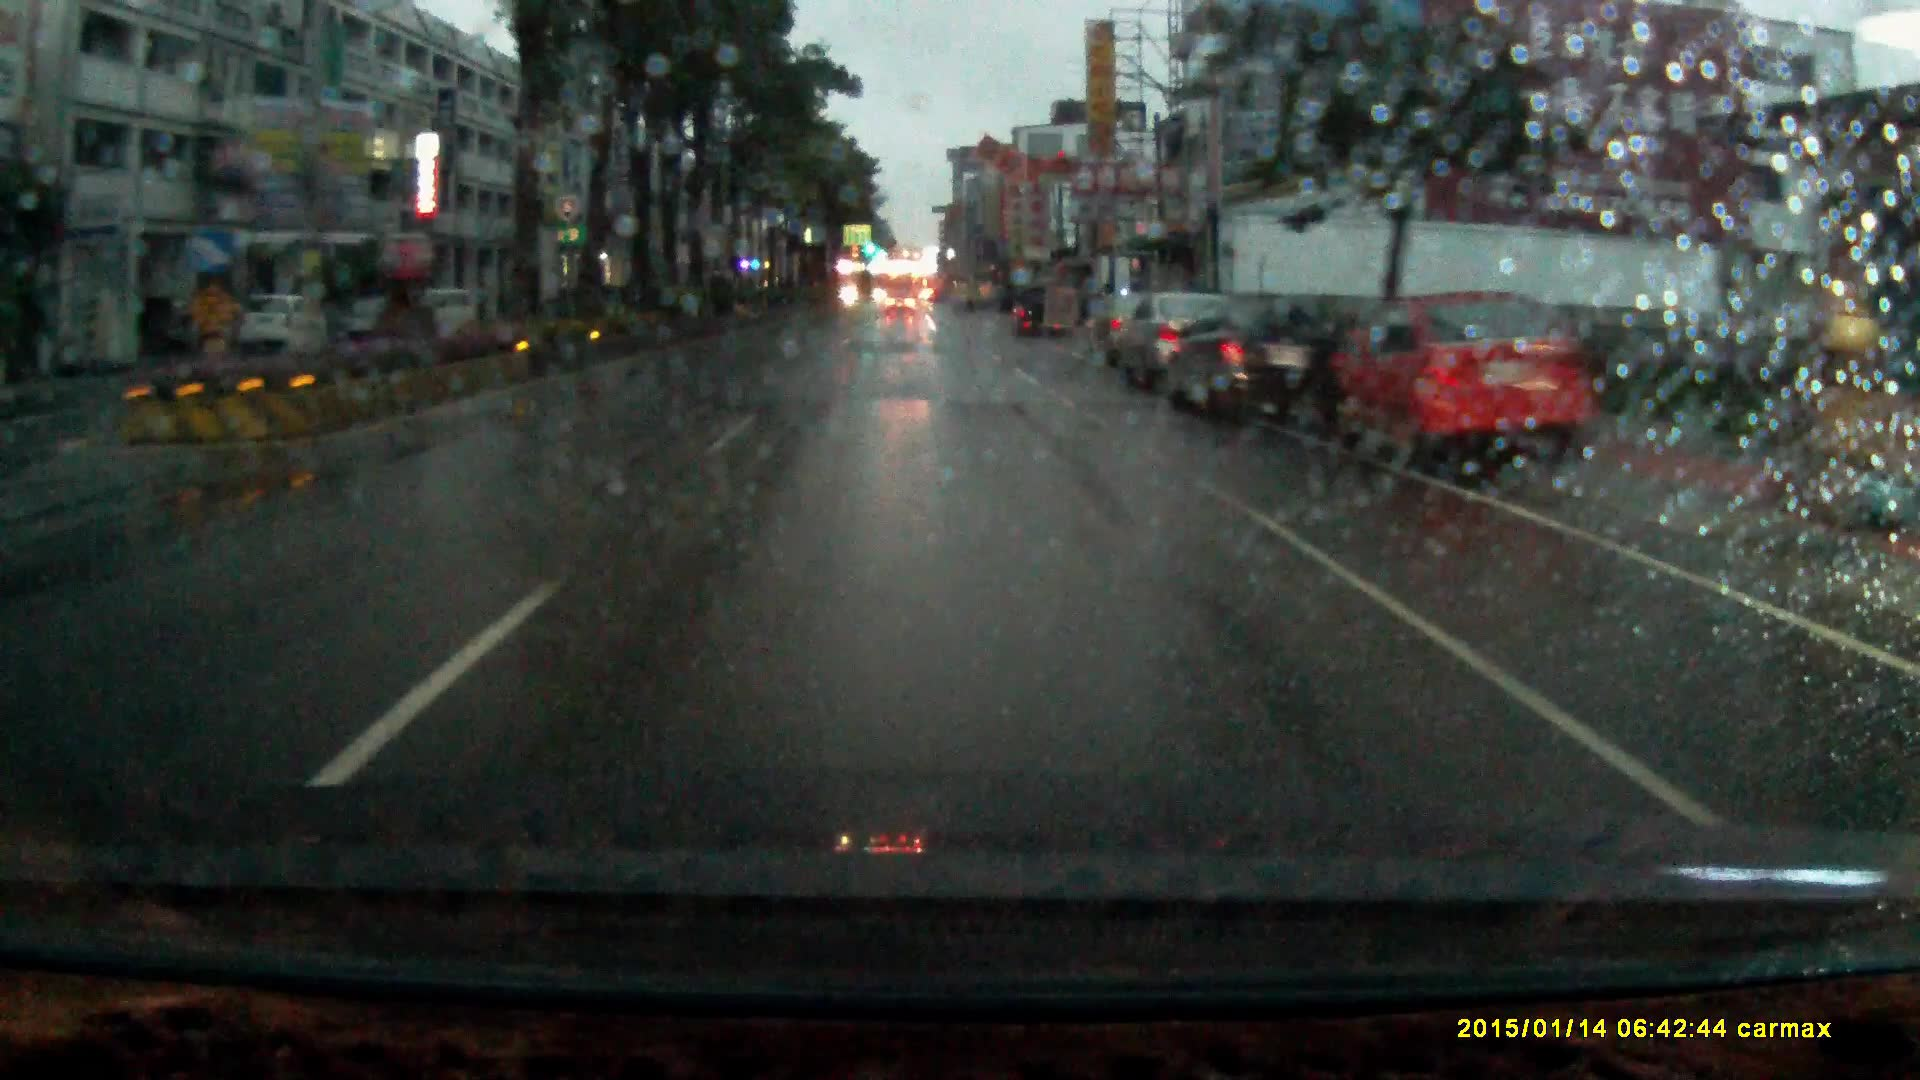vehicle: (1342, 299, 1619, 487), (1162, 301, 1360, 435), (1116, 297, 1232, 390), (378, 290, 483, 342), (243, 298, 324, 357), (1083, 298, 1145, 365), (1004, 287, 1069, 347), (885, 291, 916, 322)
